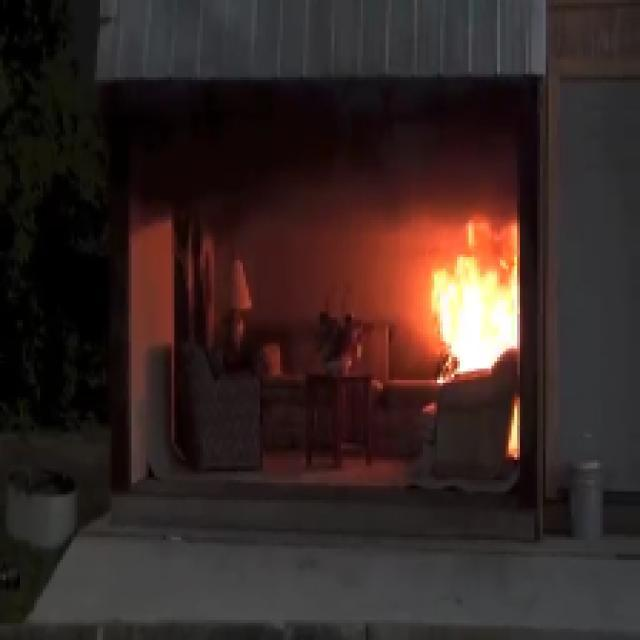Fire: (428, 228, 524, 464)
